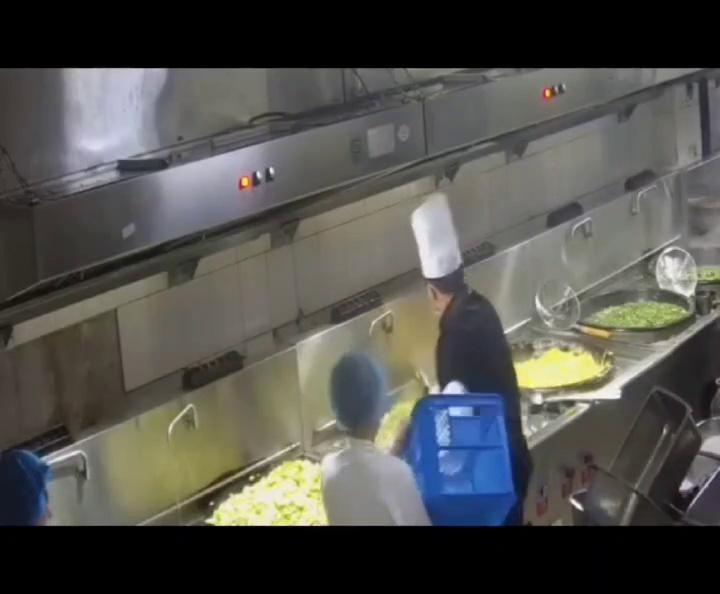gloves: (321, 348, 391, 450)
